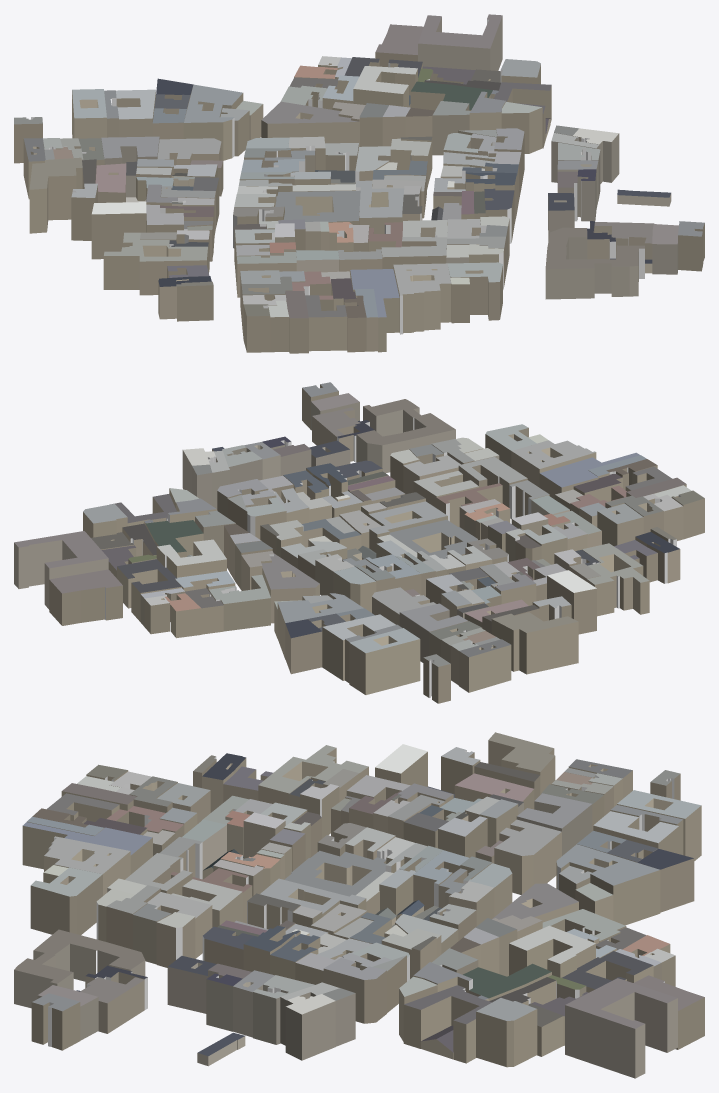
3 renders of one model, top to bottom at view 1: azimuth 30°, elevation 25°; view 2: azimuth 150°, elevation 25°; view 3: azimuth 270°, elevation 25°, orthographic. The views are drawn at different scales.
Visible parts, largest first — view 1: tuile; view 2: tuile; view 3: tuile.
Boxes of the visible parts, box(x1,y1,x2,y2) form: tuile: box(14, 14, 704, 353); tuile: box(14, 382, 704, 703); tuile: box(14, 732, 704, 1078).
Bounding box in the file's own units: 287 × 24.63 × 284.
